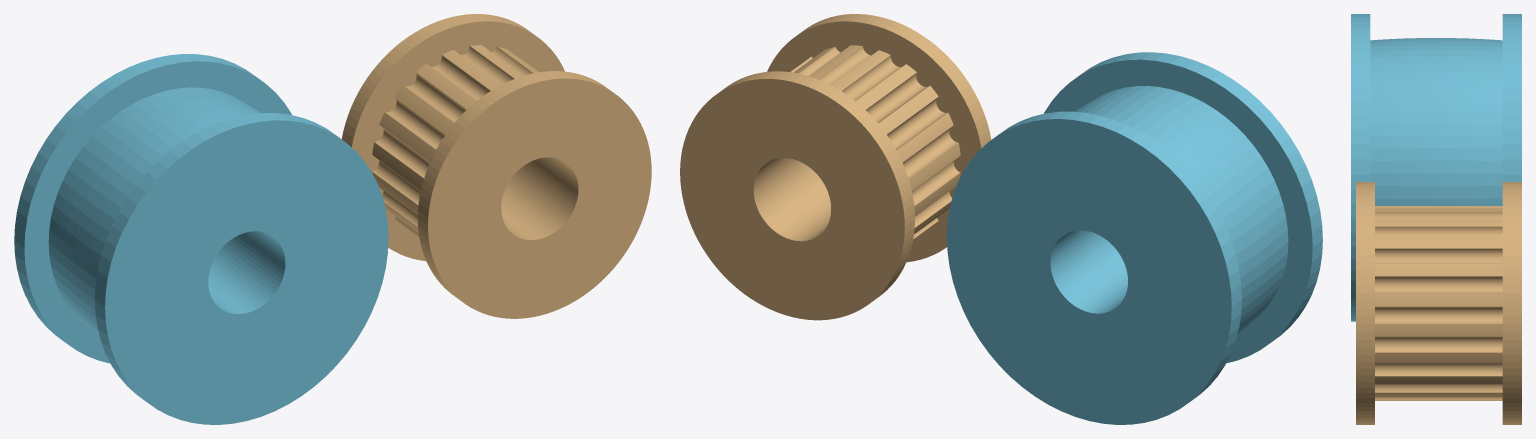
Rendered from idler_pulley_demo.glb.
The picture shows the model from 3 angles, left to right: view 1: azimuth 30°, elevation 25°; view 2: azimuth 150°, elevation 25°; view 3: azimuth 270°, elevation 25°; orthographic projection. The views are drawn at different scales.
Parts seen in each view (by area): view 1: idler, driver_pulley; view 2: idler, driver_pulley; view 3: driver_pulley, idler.
Part boxes in pixels (box(x1,y1,x2,y2)): idler: box(14, 54, 388, 424); driver_pulley: box(342, 14, 651, 318); idler: box(947, 52, 1322, 424); driver_pulley: box(680, 14, 991, 320); driver_pulley: box(1356, 182, 1521, 424); idler: box(1351, 14, 1521, 321).
Size of the model in its own units: 37.37 by 19.3 by 10.7.
